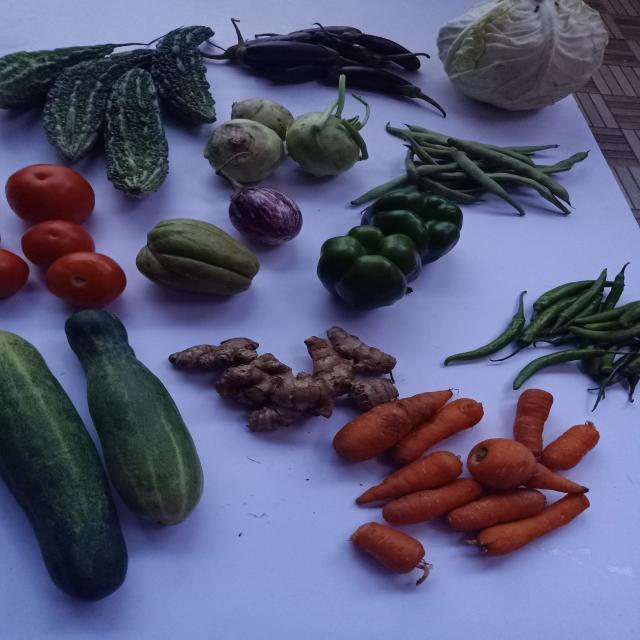Bitter Gourd: (43, 48, 153, 162), (0, 42, 145, 108), (103, 67, 168, 197), (149, 25, 215, 123)
Cabbage: (437, 0, 609, 110)
Carrot: (332, 390, 453, 462), (476, 495, 590, 557), (393, 399, 484, 464), (356, 452, 463, 505), (350, 523, 433, 586), (514, 389, 554, 458)
Chayote: (135, 218, 259, 294)
Cucumber: (0, 331, 127, 602), (64, 309, 202, 526)
Eggplant: (228, 187, 302, 244)
Ginger: (167, 338, 258, 368)
Green Chilly: (444, 291, 527, 366), (533, 280, 596, 312), (569, 323, 640, 343)
Tomato: (4, 164, 94, 224), (45, 252, 125, 307), (20, 220, 94, 266)
Turnip: (285, 74, 369, 176), (203, 118, 284, 182), (230, 98, 293, 139)
